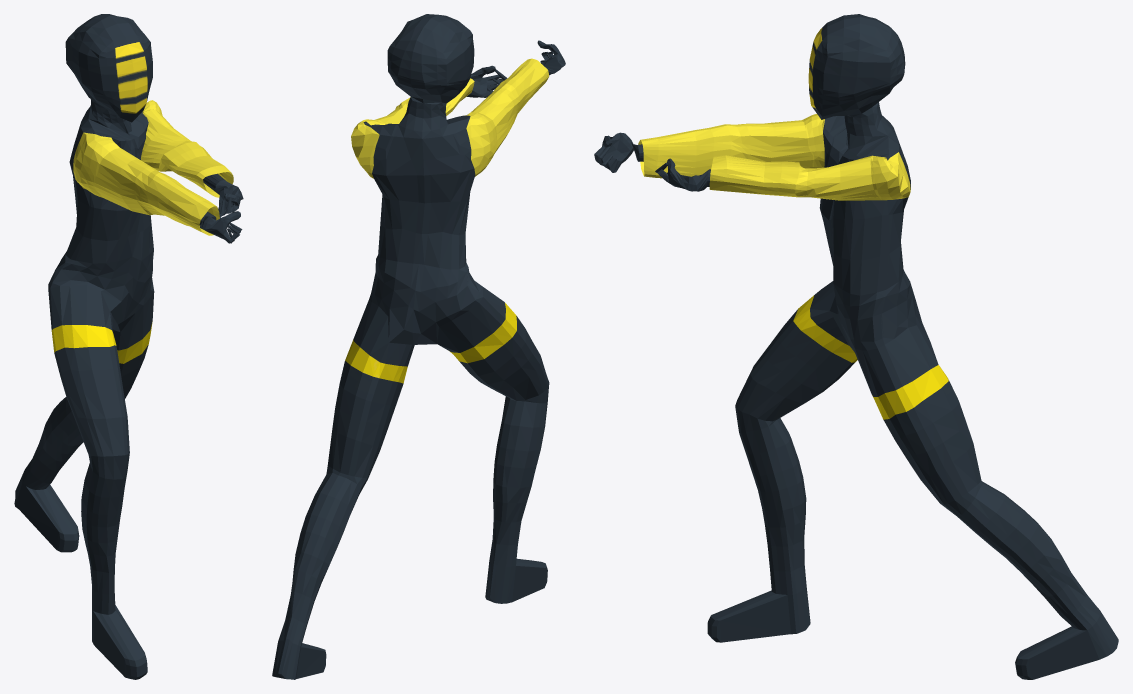
The model's file is Sentry_Attack_000025.obj.
3 views of the same model, side by side, from view 1: azimuth 30°, elevation 25°; view 2: azimuth 150°, elevation 25°; view 3: azimuth 270°, elevation 25° (orthographic). The views are drawn at different scales.
Parts seen in each view (by area): view 1: Cube; view 2: Cube; view 3: Cube.
Boxes of the visible parts, left/top/right/bottom form: Cube: left=14, top=14, right=243, bottom=679; Cube: left=272, top=14, right=565, bottom=679; Cube: left=594, top=14, right=1118, bottom=679.
Size of the model in its own units: 0.8847 by 3.75 by 2.78.
